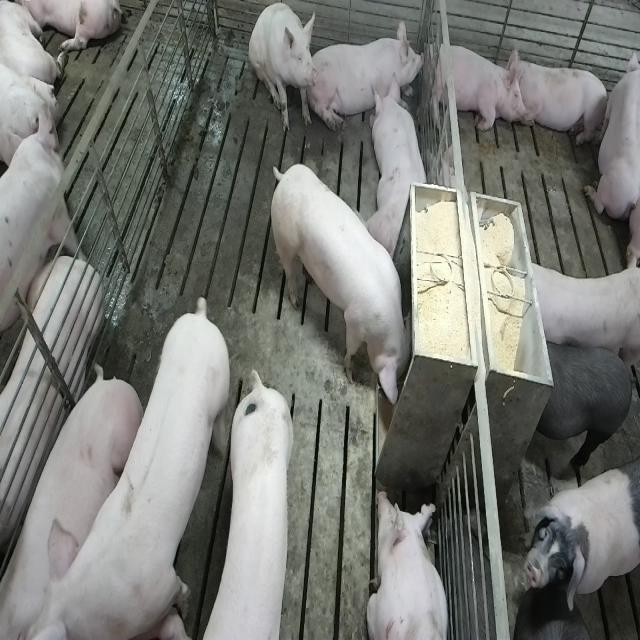Feeding: (266, 162, 411, 409)
Lateral_lying: (0, 255, 102, 629)
Sitting: (249, 3, 319, 136)
Standing: (44, 292, 229, 640), (43, 360, 157, 640), (205, 370, 295, 640), (0, 113, 79, 354), (518, 464, 638, 612), (530, 336, 636, 474), (521, 255, 637, 368)
Sternal_lying: (367, 485, 450, 640), (314, 18, 423, 132), (370, 78, 431, 262), (424, 38, 526, 138), (511, 51, 611, 149), (585, 38, 637, 224)
